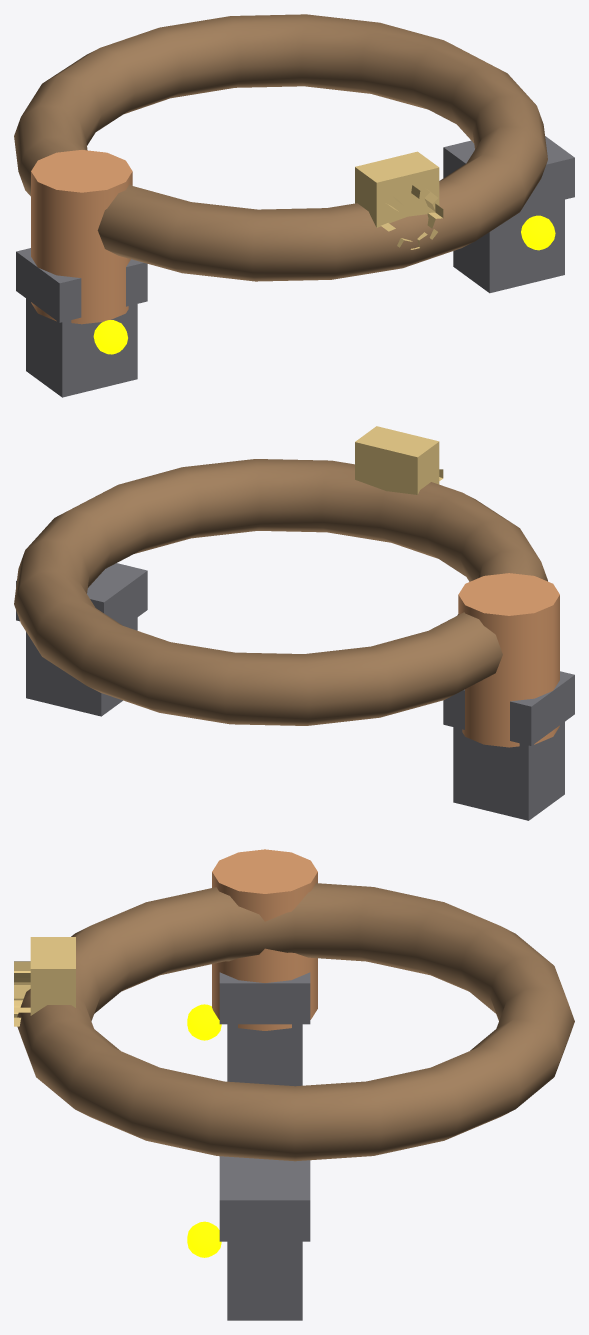
File: belt_utility_pouch.glb
3 views of the same model, one above another, from view 1: azimuth 30°, elevation 25°; view 2: azimuth 150°, elevation 25°; view 3: azimuth 270°, elevation 25° (orthographic). The views are drawn at different scales.
Parts seen in each view (by area): view 1: belt, holster, pouch_l, pouch_r, buckle, glow; view 2: belt, holster, pouch_l, pouch_r, buckle; view 3: belt, pouch_r, holster, pouch_l, buckle, glow.
Boxes of the visible parts, x1,y1,x2,y2 form: belt: (14,14,547,281); holster: (31,150,132,324); pouch_l: (16,248,147,397); pouch_r: (443,136,574,293); buckle: (355,151,443,249); glow: (93,215,555,354); belt: (14,459,547,725); holster: (458,573,559,747); pouch_l: (443,671,574,820); pouch_r: (16,563,147,716); buckle: (355,426,443,494); belt: (17,883,574,1161); pouch_r: (219,1156,310,1320); holster: (212,849,317,1030); pouch_l: (219,972,310,1086); buckle: (14,937,75,1026); glow: (187,1004,221,1257).
Bounding box in the file's own units: 0.41 × 0.175 × 0.371.
